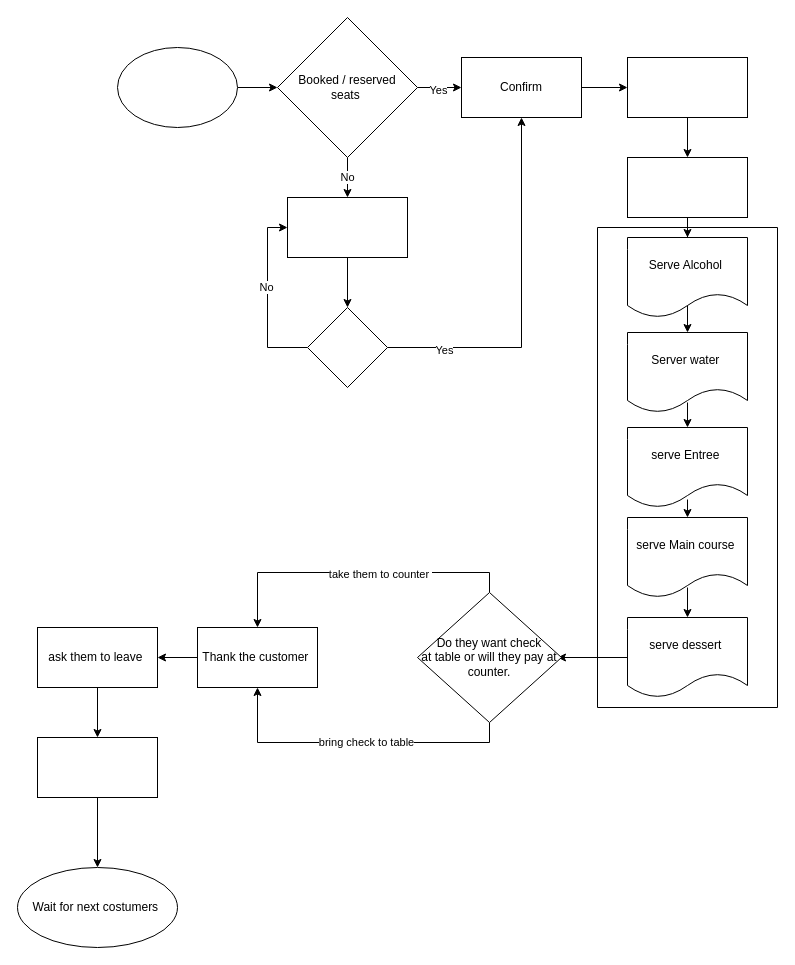
This 795x965 diagram has some shape labels left out. Here are the shapes that lost their labels. From the top down, the centre of each, then its label:
the point at 177,87: Costumer Arrives
the point at 687,87: Customer sits on table
the point at 687,187: waiter takes order
the point at 347,227: Waiting area
the point at 347,347: seats available ?
the point at 97,767: Clean table
